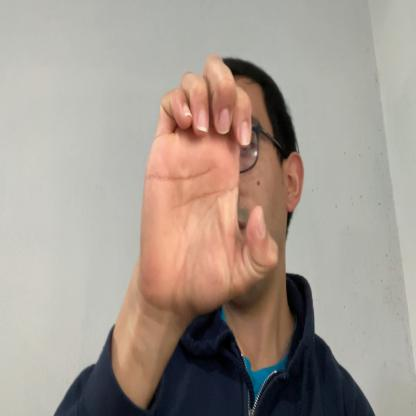E: (141, 54, 278, 317)
